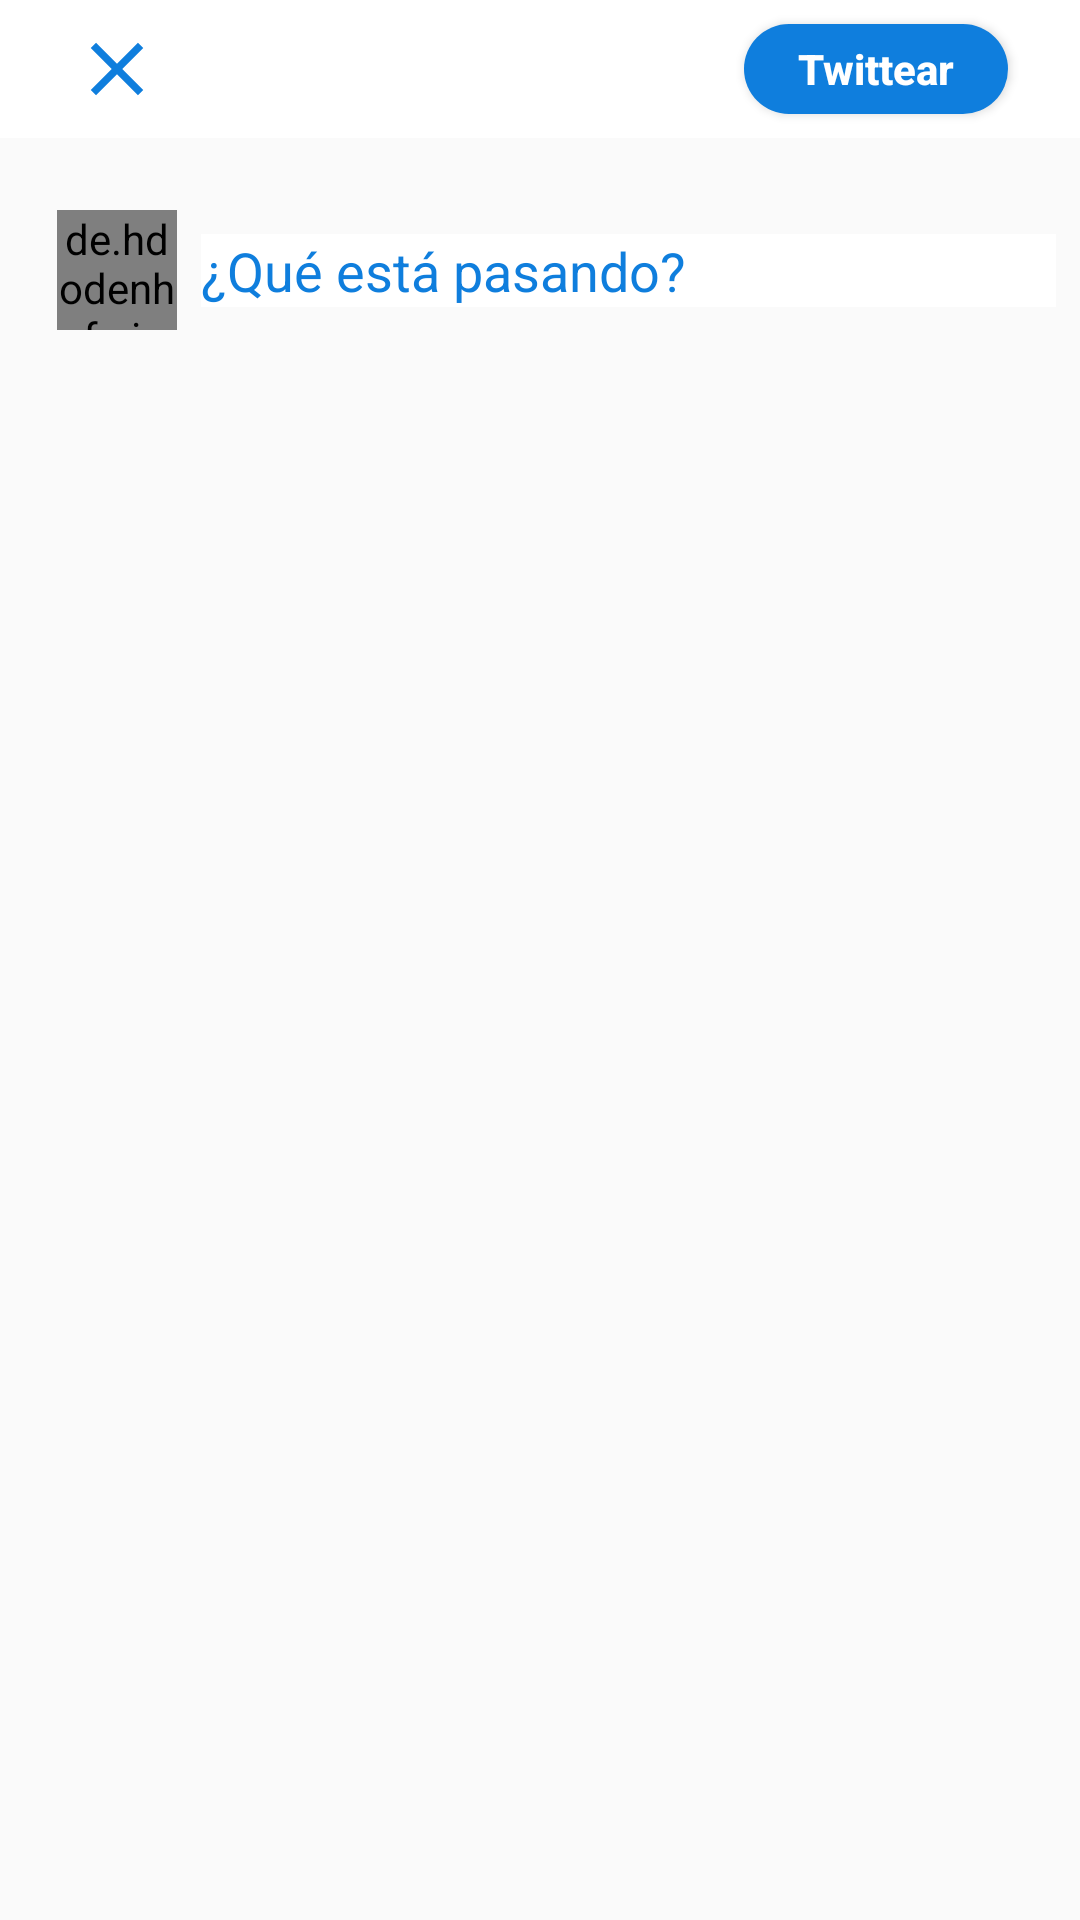

Where to tap for icons on this 1080 × 1920 app screen, as point (x, y):
close ligth: point (117, 69)
